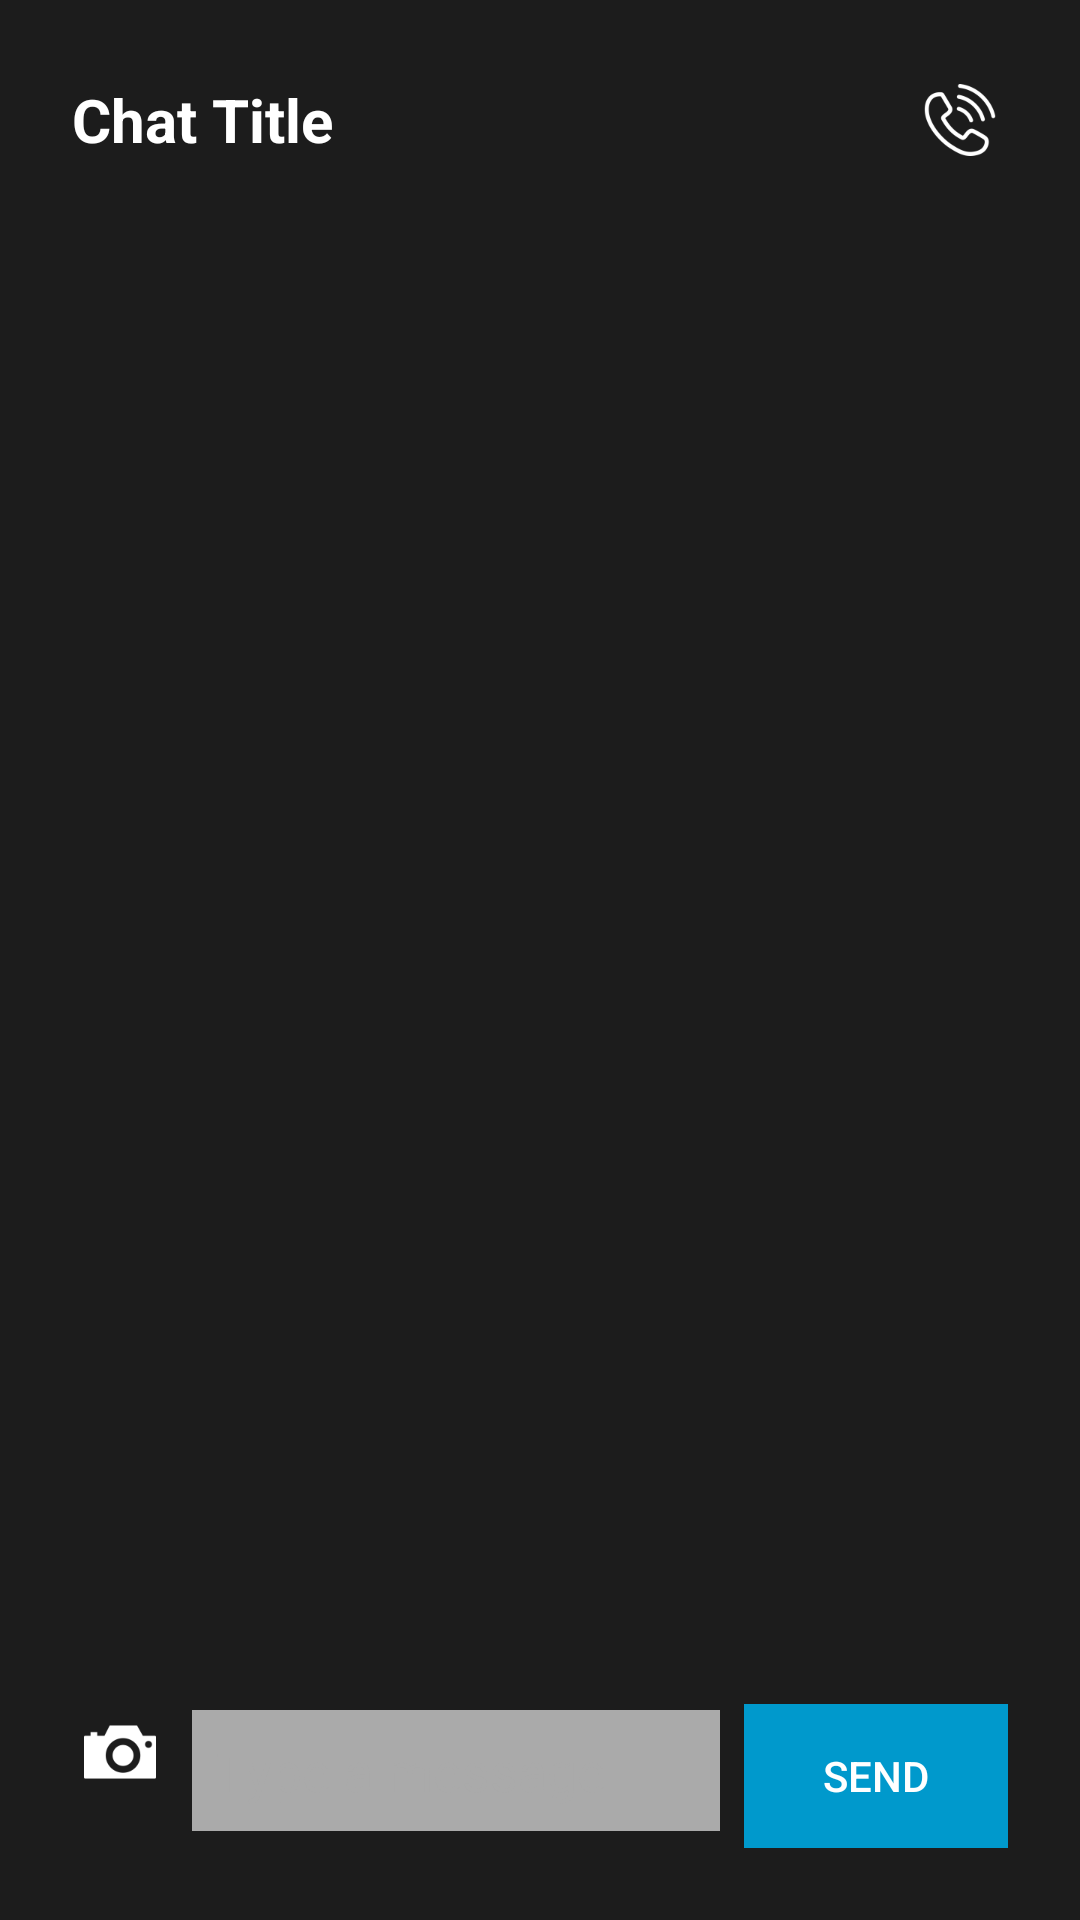

Screen size 1080*1920. Icon name, then its center in pixels as [x,y]:
Call: [960,120]
Send Image: [120,1752]
